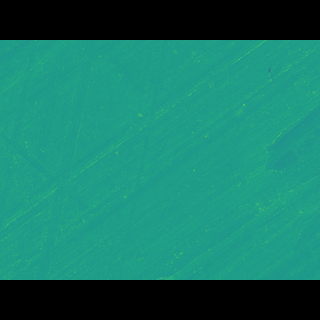Loch: (30, 67, 111, 250), (0, 68, 93, 220), (115, 69, 176, 250)
